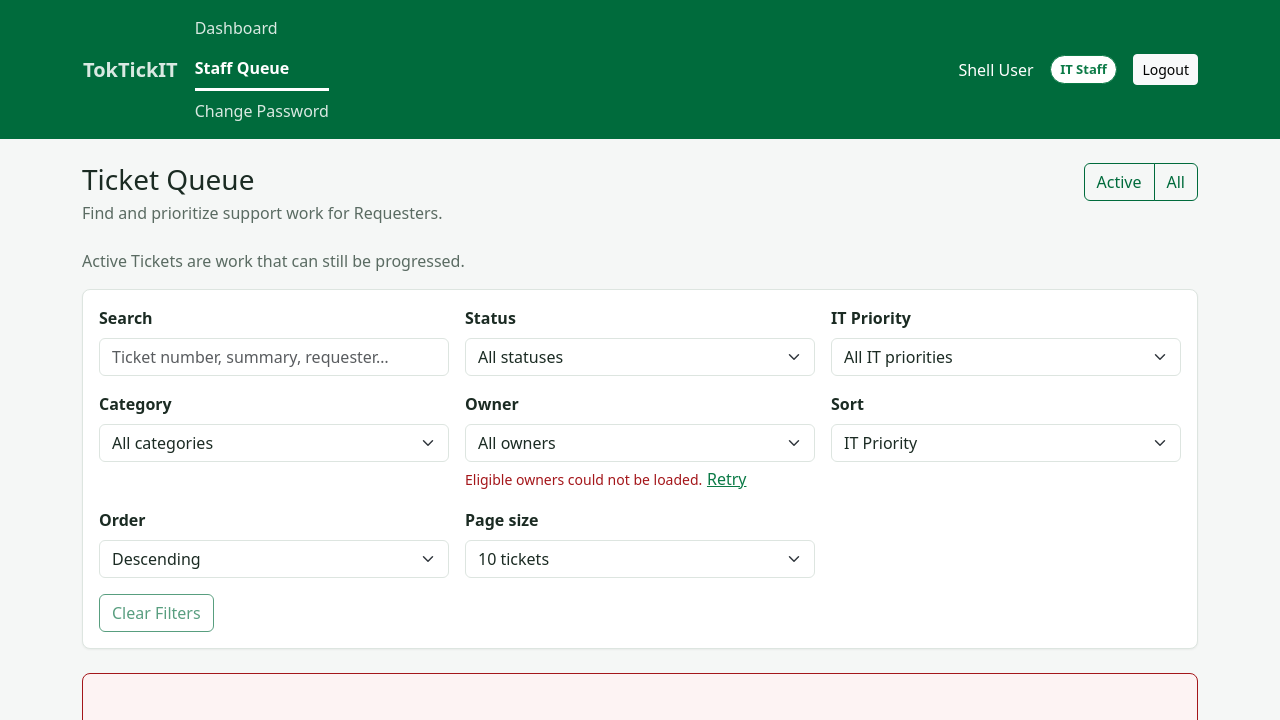
Test case: Issue 50 authenticated application shell › UI-H01: logs out, sends the current CSRF token, and protects the route afterward
This screenshot has width=1280, height=720.
Click the button "Logout" at (1166, 70), box x1=1133 y1=54 x2=1198 y2=85
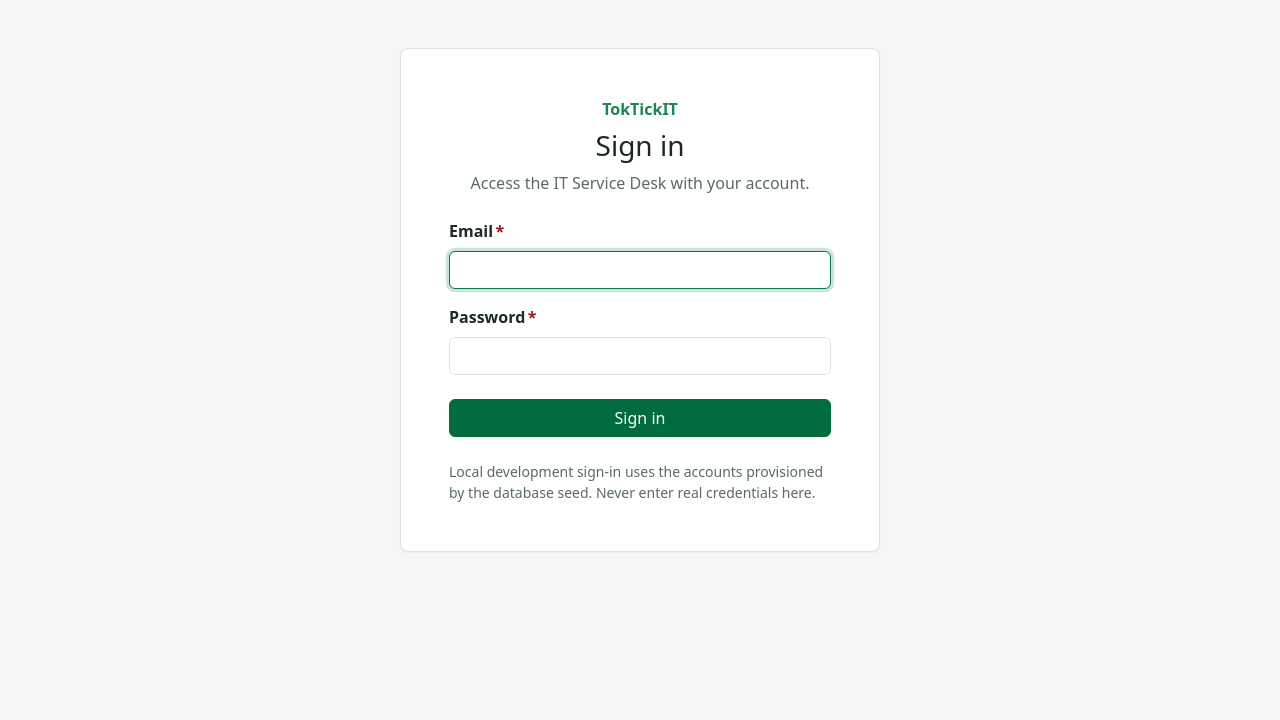
Result: the heading "Sign in" is shown at x1=596 y1=126 x2=684 y2=164
Result: the text with test id "current-user" is gone
